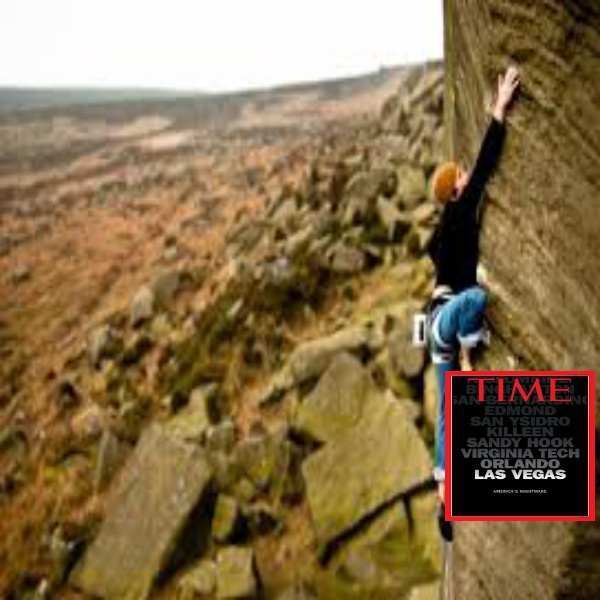time_cover: (441, 364, 594, 521)
